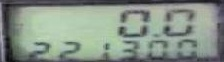-: (150, 32, 160, 37)
0: (116, 7, 150, 36), (160, 8, 194, 36), (174, 38, 195, 59), (145, 39, 167, 58)
1: (100, 41, 111, 60)
2: (26, 40, 49, 62), (57, 40, 80, 60)
3: (117, 39, 138, 59)
